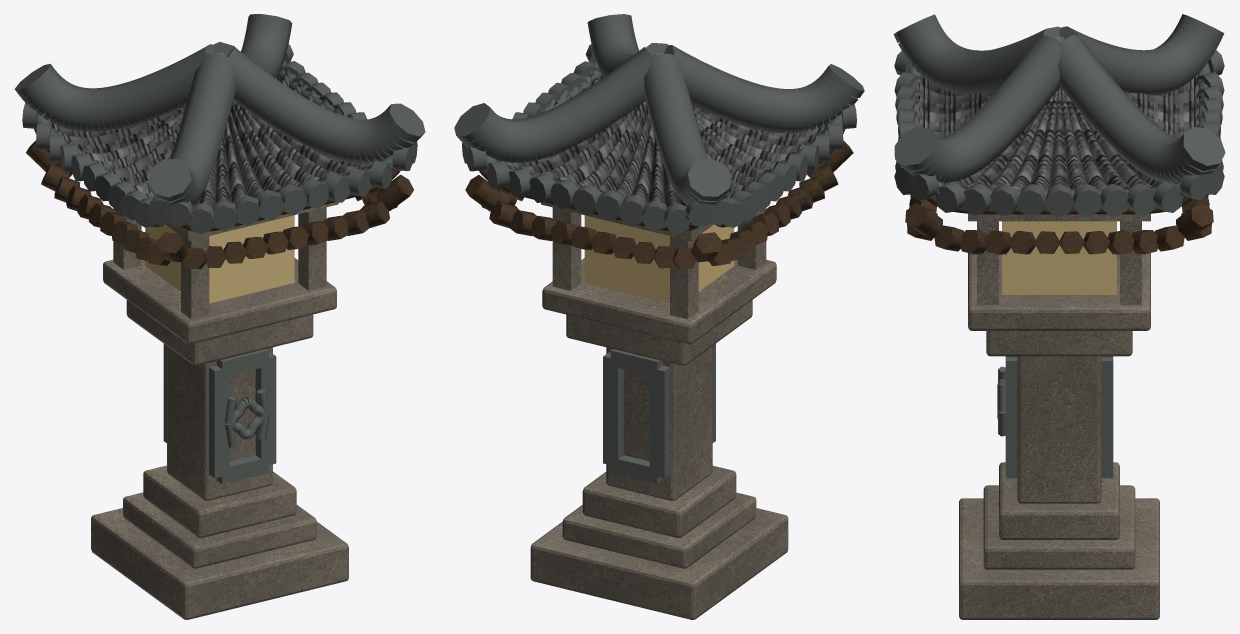
The model's file is lantern.glb.
3 renders of one model, left to right at view 1: azimuth 30°, elevation 25°; view 2: azimuth 150°, elevation 25°; view 3: azimuth 270°, elevation 25°, orthographic. The views are drawn at different scales.
Parts seen in each view (by area): view 1: StoneLantern_Carved_Gray_Stone_PBR, StoneLantern_Roof_Ceramic_Edge, StoneLantern_Fired_Gray_Roof_PBR, StoneLantern_Cedar_Scanned_PBR, StoneLantern_Stone_Deep_Recess, StoneLantern_Lamp_Warm_Glass; view 2: StoneLantern_Carved_Gray_Stone_PBR, StoneLantern_Roof_Ceramic_Edge, StoneLantern_Fired_Gray_Roof_PBR, StoneLantern_Cedar_Scanned_PBR, StoneLantern_Stone_Deep_Recess, StoneLantern_Lamp_Warm_Glass; view 3: StoneLantern_Carved_Gray_Stone_PBR, StoneLantern_Roof_Ceramic_Edge, StoneLantern_Fired_Gray_Roof_PBR, StoneLantern_Cedar_Scanned_PBR, StoneLantern_Lamp_Warm_Glass, StoneLantern_Stone_Deep_Recess, StoneLantern_Deep_Cedar_Panels.
Part boxes in pixels (box(x1,y1,x2,y2)): StoneLantern_Carved_Gray_Stone_PBR: box(91, 52, 348, 619); StoneLantern_Roof_Ceramic_Edge: box(14, 14, 425, 233); StoneLantern_Fired_Gray_Roof_PBR: box(45, 69, 383, 206); StoneLantern_Cedar_Scanned_PBR: box(26, 128, 413, 269); StoneLantern_Stone_Deep_Recess: box(163, 344, 276, 484); StoneLantern_Lamp_Warm_Glass: box(145, 215, 294, 303); StoneLantern_Carved_Gray_Stone_PBR: box(530, 52, 788, 619); StoneLantern_Roof_Ceramic_Edge: box(454, 14, 864, 234); StoneLantern_Fired_Gray_Roof_PBR: box(497, 69, 834, 207); StoneLantern_Cedar_Scanned_PBR: box(465, 129, 853, 269); StoneLantern_Stone_Deep_Recess: box(603, 343, 715, 484); StoneLantern_Lamp_Warm_Glass: box(584, 215, 734, 303); StoneLantern_Carved_Gray_Stone_PBR: box(959, 36, 1159, 619); StoneLantern_Roof_Ceramic_Edge: box(893, 14, 1225, 216); StoneLantern_Fired_Gray_Roof_PBR: box(915, 74, 1203, 189); StoneLantern_Cedar_Scanned_PBR: box(905, 193, 1213, 254); StoneLantern_Lamp_Warm_Glass: box(1002, 221, 1116, 294); StoneLantern_Stone_Deep_Recess: box(997, 356, 1113, 478); StoneLantern_Deep_Cedar_Panels: box(976, 88, 1142, 188).
Size of the model in its own units: 1.82 by 3.3 by 1.82.
Materials: 7 (3 with a texture image).
